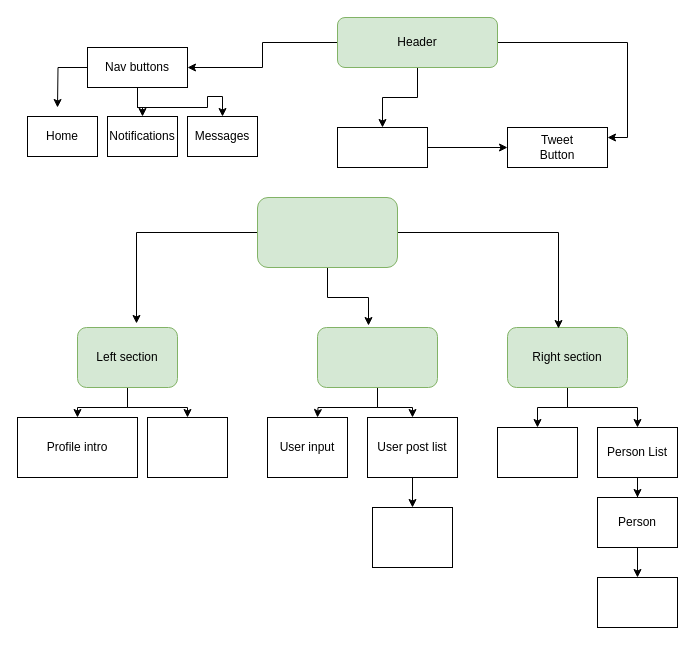
The diagram is 695 pixels wide and 645 high, and some of its shapes have lost their labels. Here are the shapes that lost their labels. From the top down, the centre of each, then its label:
At point (382, 147): "Search".
At point (327, 232): "Body".
At point (377, 357): "Mid section".
At point (187, 447): "Bio/summary".
At point (537, 452): "Title".
At point (412, 537): "User post".
At point (637, 602): "Follow button".
